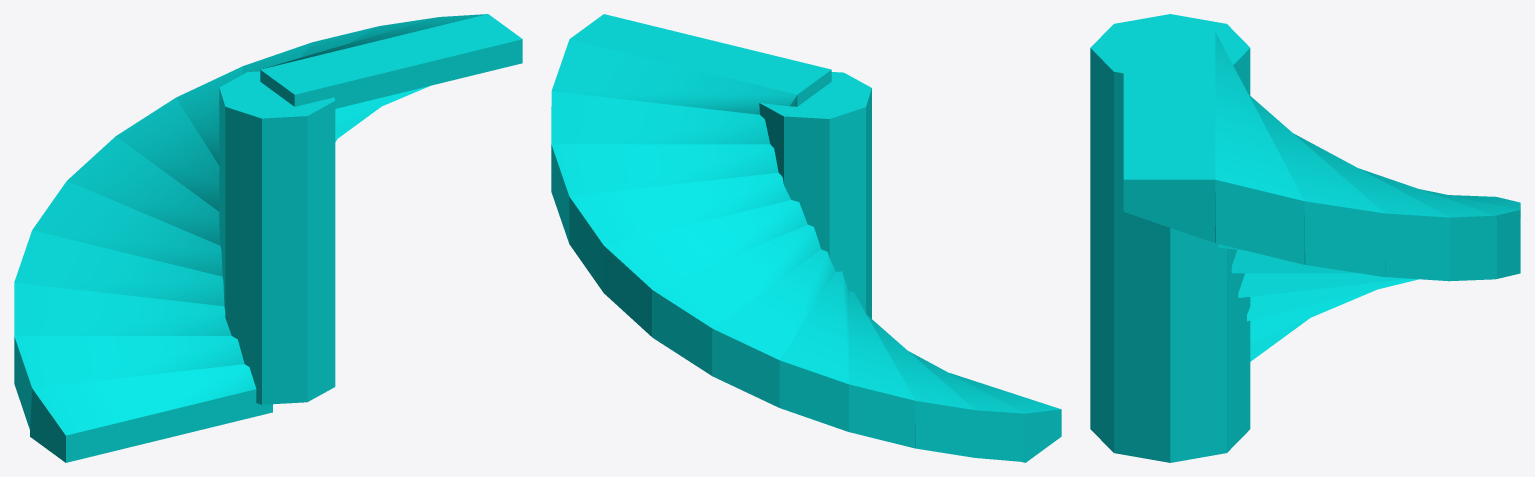
File: SM_Bld_Stairs_Curve_03_Collision.fbx
3 renders of one model, left to right at view 1: azimuth 30°, elevation 25°; view 2: azimuth 150°, elevation 25°; view 3: azimuth 270°, elevation 25°, orthographic. The views are drawn at different scales.
Parts seen in each view (by area): view 1: SM_Bld_Stairs_Curve_03_Collision; view 2: SM_Bld_Stairs_Curve_03_Collision; view 3: SM_Bld_Stairs_Curve_03_Collision.
Boxes of the visible parts, box(x1,y1,x2,y2) form: SM_Bld_Stairs_Curve_03_Collision: box(14, 14, 522, 462); SM_Bld_Stairs_Curve_03_Collision: box(551, 14, 1061, 462); SM_Bld_Stairs_Curve_03_Collision: box(1090, 14, 1520, 462).
Size of the model in its own units: 502 by 327 by 307.
